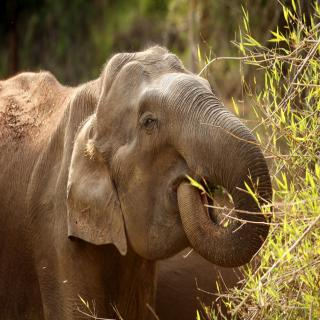Elephant: (0, 39, 276, 320)
